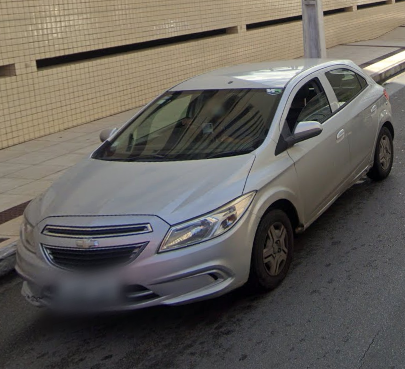car: (21, 61, 396, 301)
